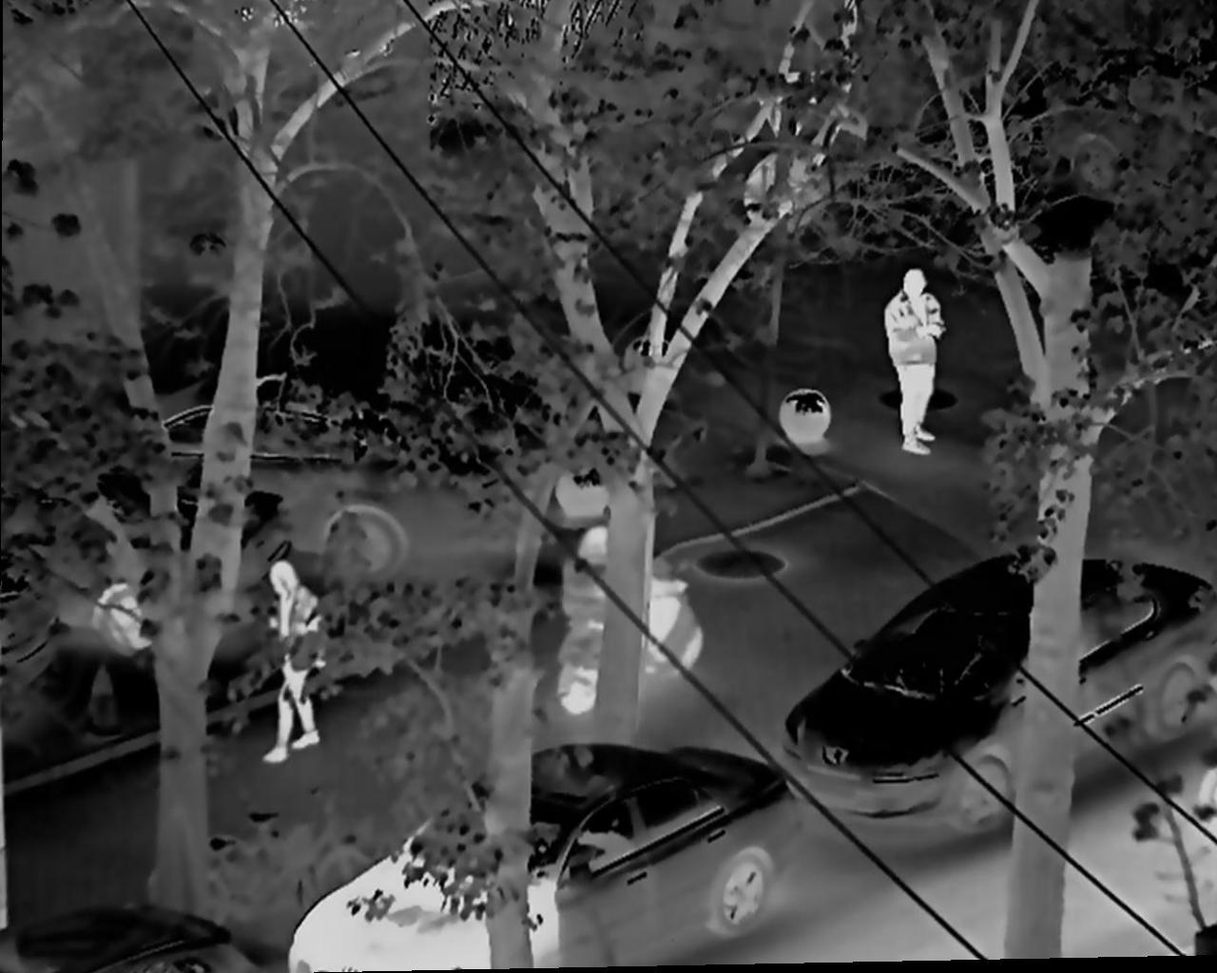person: (881, 268, 947, 456), (268, 556, 325, 762)
